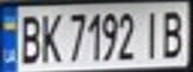1: (84, 9, 103, 62)
2: (118, 8, 142, 61)
7: (63, 8, 87, 63)
9: (100, 8, 121, 62)
B: (157, 6, 190, 60), (15, 10, 45, 65)
I: (139, 7, 166, 61)
K: (36, 9, 63, 64)
